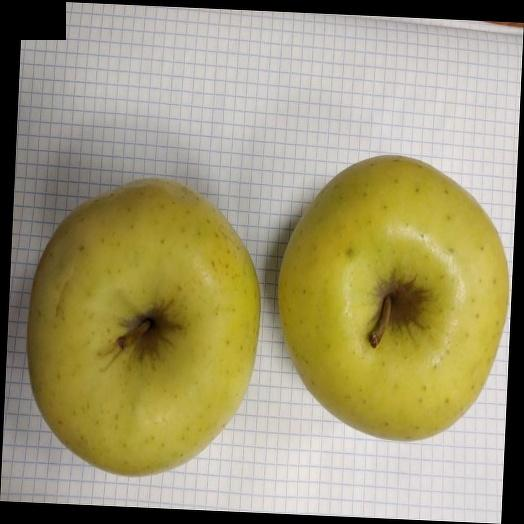green apple: (26, 171, 262, 481), (276, 155, 510, 442)
